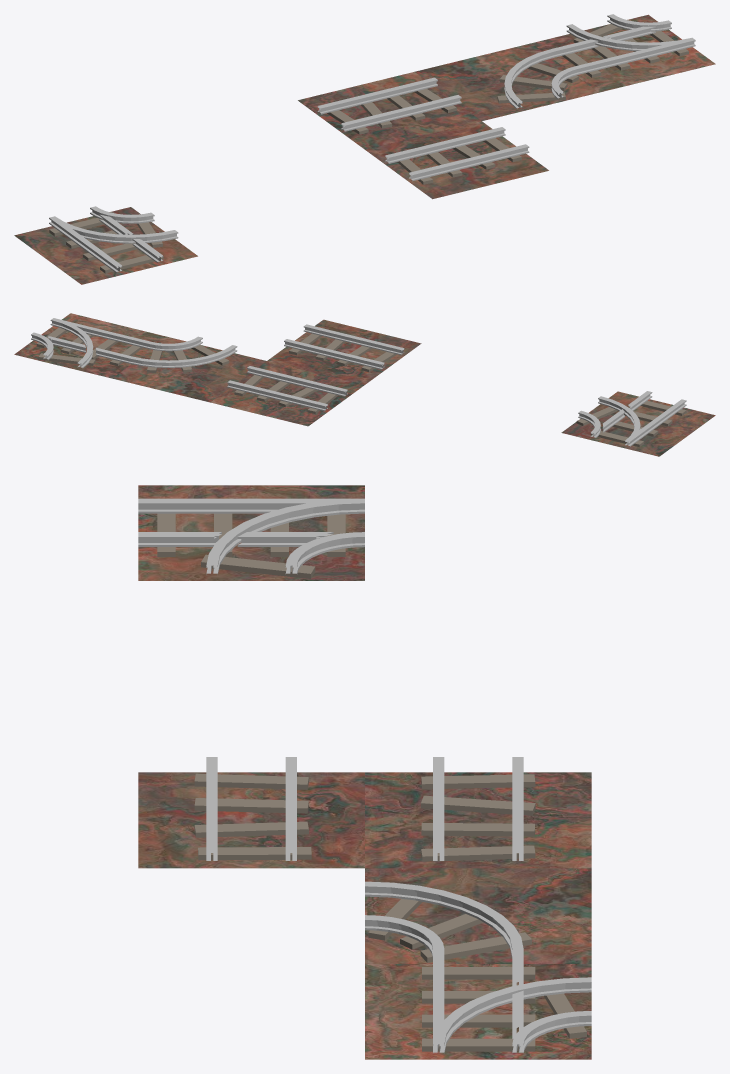
The model's file is cave_minetracks.glb.
3 views of the same model, one above another, from view 1: azimuth 30°, elevation 25°; view 2: azimuth 150°, elevation 25°; view 3: azimuth 270°, elevation 25° (orthographic). The views are drawn at different scales.
Visible parts, largest first — view 1: TrackSplitL, TrackSplitR, TrackStraight2, TrackStraight1, TrackCurve; view 2: TrackSplitL, TrackCurve, TrackStraight2, TrackStraight1, TrackSplitR; view 3: TrackStraight2, TrackStraight1, TrackSplitR, TrackSplitL, TrackCurve.
Boxes of the visible parts, x1,y1,x2,y2 form: TrackSplitL: (14,206,197,284); TrackSplitR: (532,14,715,92); TrackStraight2: (365,121,548,199); TrackStraight1: (298,72,481,149); TrackCurve: (414,43,598,120); TrackSplitL: (561,391,715,456); TrackCurve: (112,336,266,402); TrackStraight2: (267,319,421,384); TrackStraight1: (210,361,364,426); TrackSplitR: (14,313,168,378); TrackStraight2: (138,757,364,868); TrackStraight1: (365,757,591,868); TrackSplitR: (365,948,591,1059); TrackSplitL: (138,485,364,580); TrackCurve: (365,868,591,963).
Bounding box in the file's own units: 12 × 0.15 × 4.
3 materials, 1 textured.
